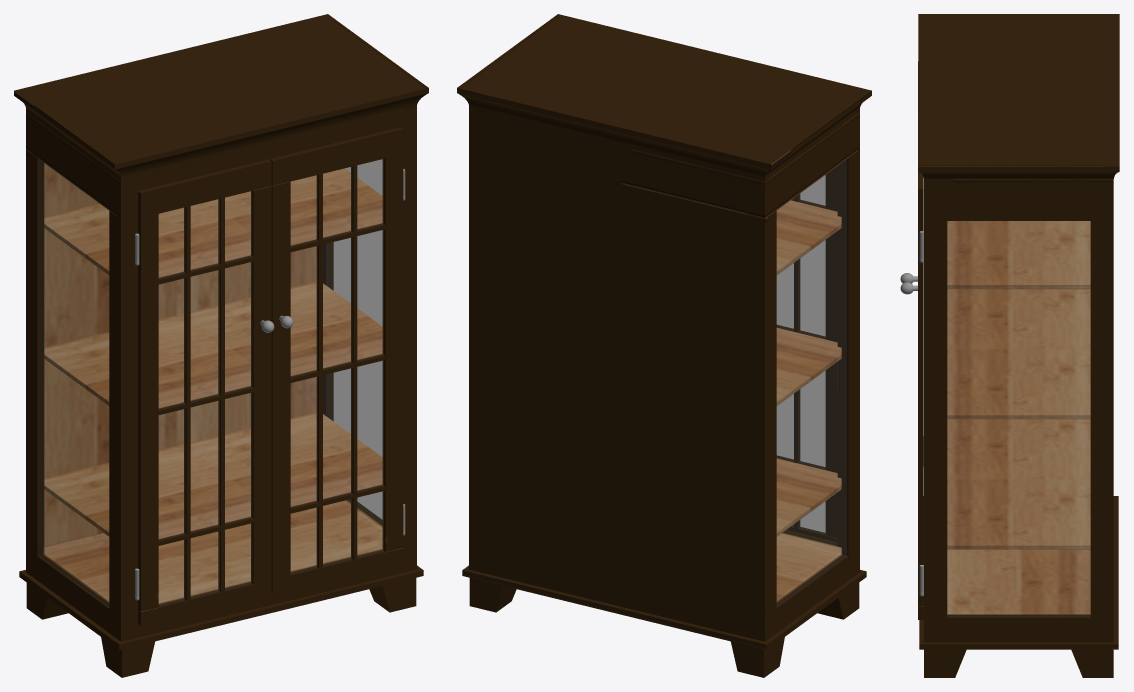
File: shelia_lighted_curio_cabinet.fbx
3 renders of one model, left to right at view 1: azimuth 30°, elevation 25°; view 2: azimuth 150°, elevation 25°; view 3: azimuth 270°, elevation 25°, orthographic.
Parts seen in each view (by area): view 1: Shelia Lighted Curio Cabinet; view 2: Shelia Lighted Curio Cabinet; view 3: Shelia Lighted Curio Cabinet.
Part boxes in pixels (x1=…): Shelia Lighted Curio Cabinet: x1=14, y1=14, x2=428, y2=677; Shelia Lighted Curio Cabinet: x1=457, y1=14, x2=871, y2=677; Shelia Lighted Curio Cabinet: x1=900, y1=14, x2=1119, y2=677.
Size of the model in its own units: 1.25 by 1.96 by 0.7554.
